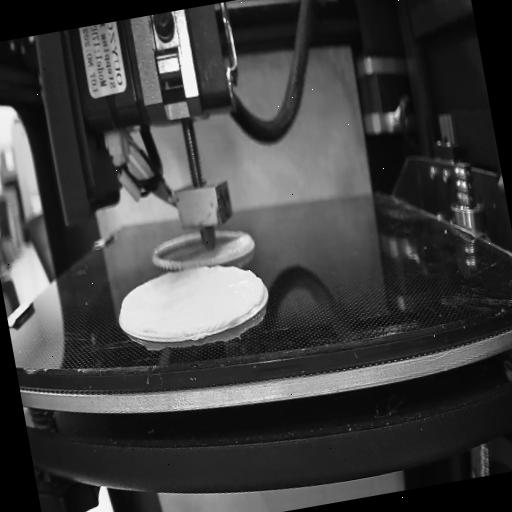over_extrusion: (244, 264, 268, 309)
